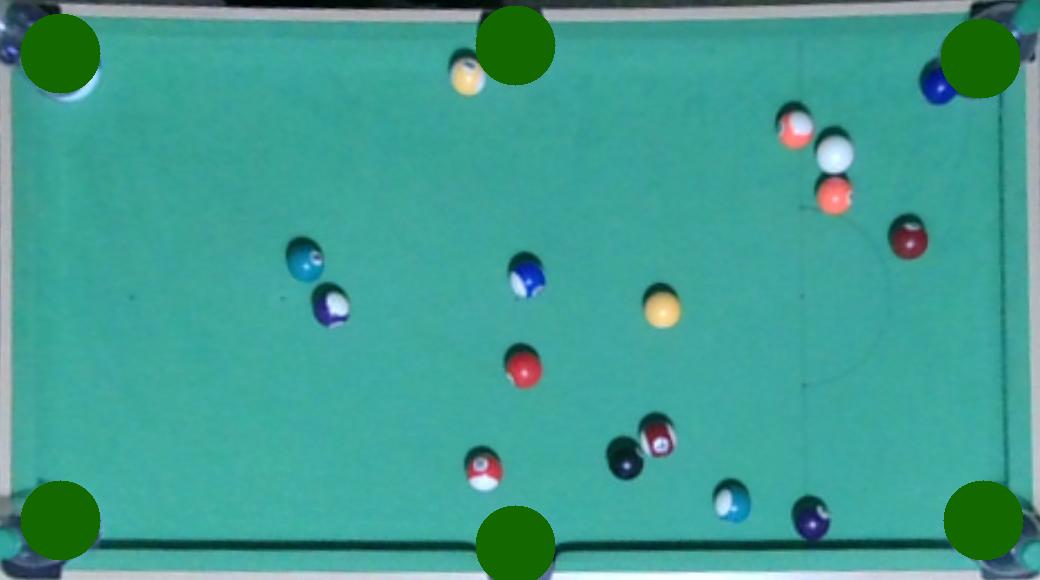Ball: (507, 252, 547, 299), (311, 284, 352, 328), (889, 215, 930, 258), (464, 449, 504, 493), (711, 482, 753, 523), (922, 57, 959, 103), (286, 240, 326, 282), (638, 415, 677, 457), (643, 289, 683, 329), (815, 138, 857, 173), (815, 177, 854, 214), (449, 58, 487, 95), (776, 111, 813, 148), (795, 502, 830, 538), (611, 445, 643, 480), (509, 351, 540, 386)
